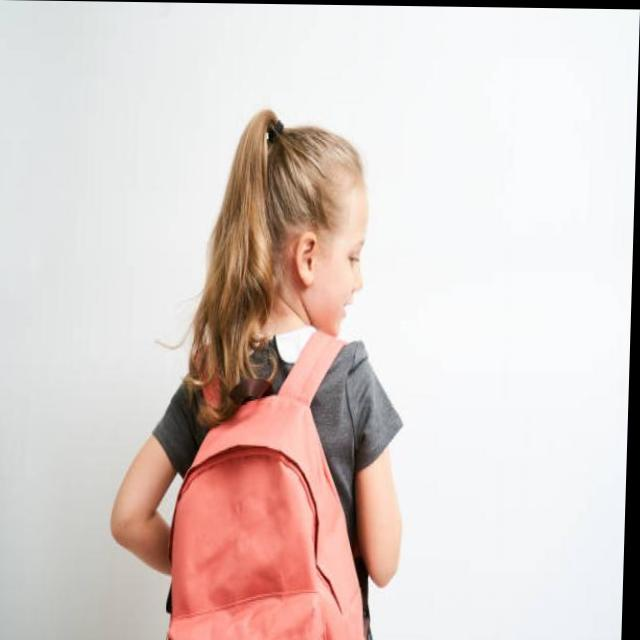no helmet: (201, 67, 331, 386)
